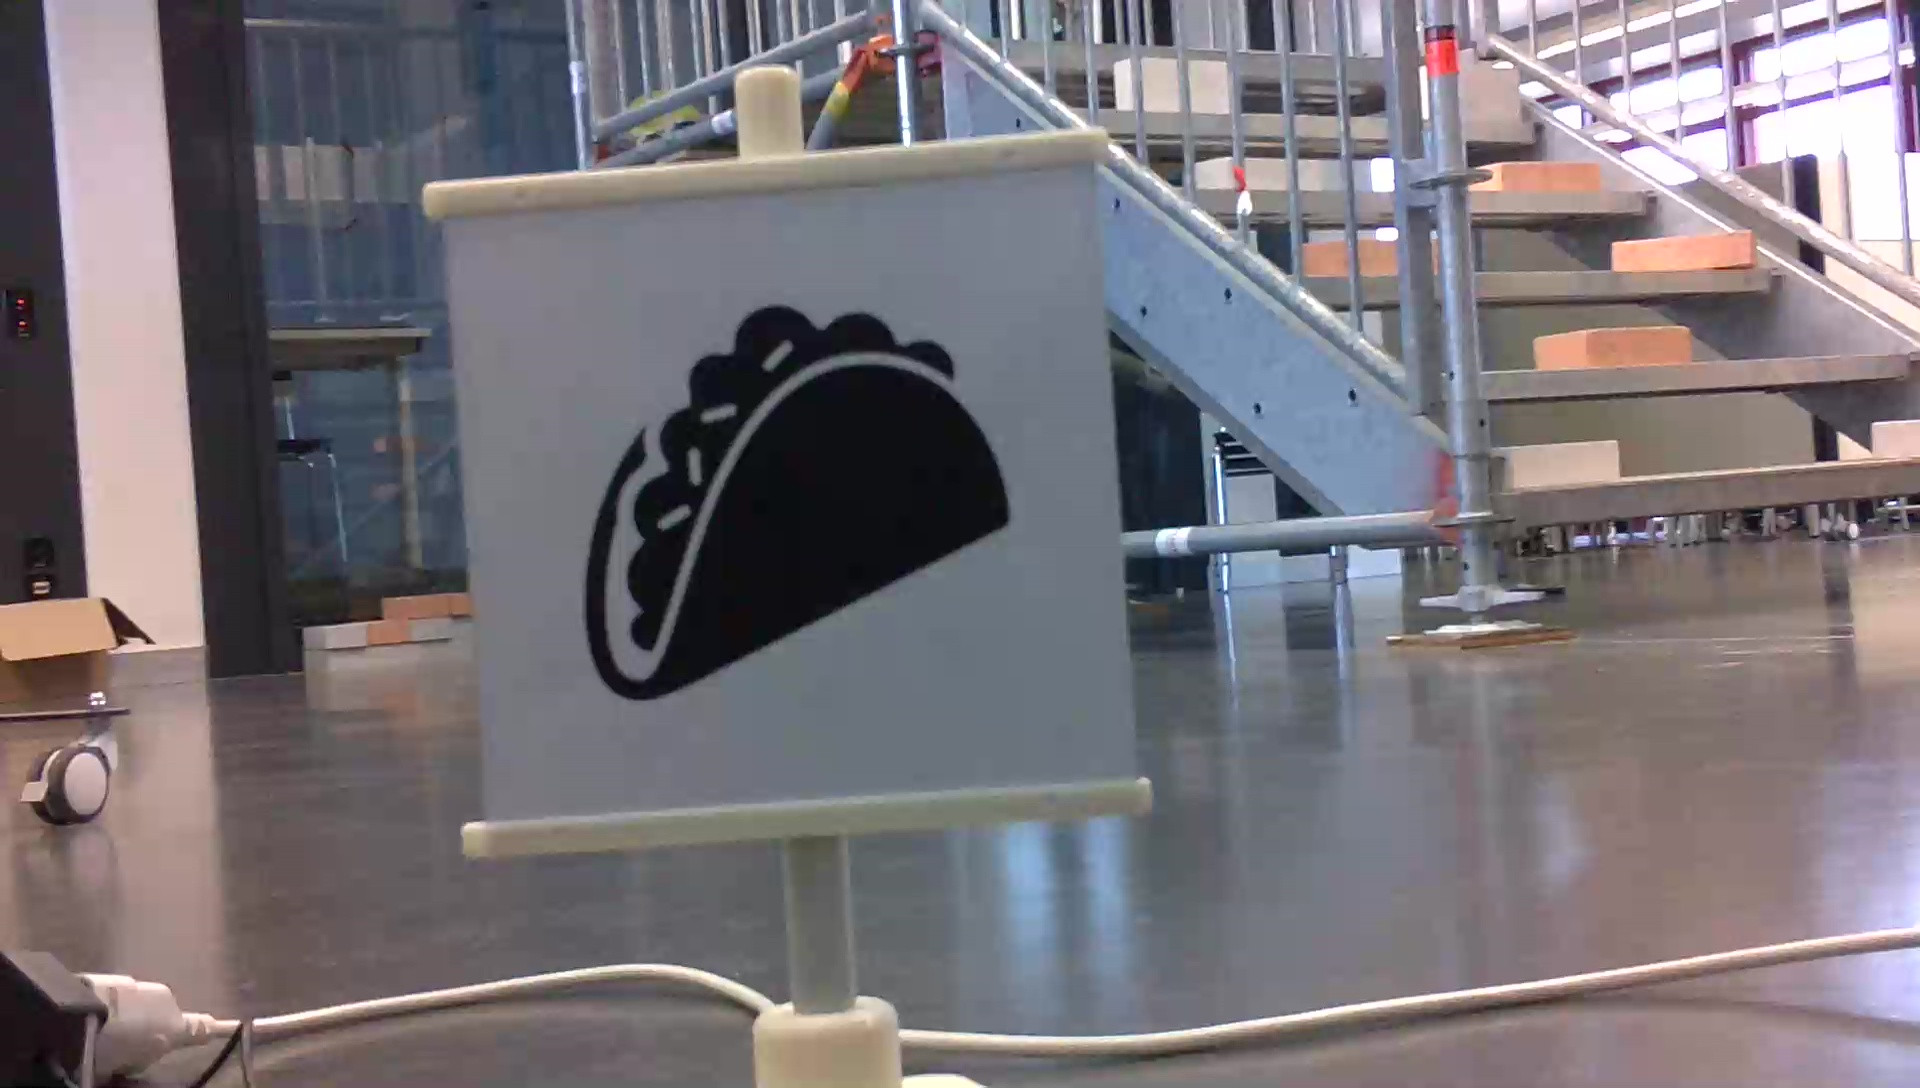brick: (1538, 328, 1689, 365), (1507, 440, 1618, 485), (1615, 233, 1753, 266), (1457, 59, 1518, 120), (1482, 160, 1597, 189), (1876, 418, 1920, 458)
edge: (1507, 458, 1917, 528), (1485, 348, 1920, 396)
taco: (568, 295, 1015, 708)
